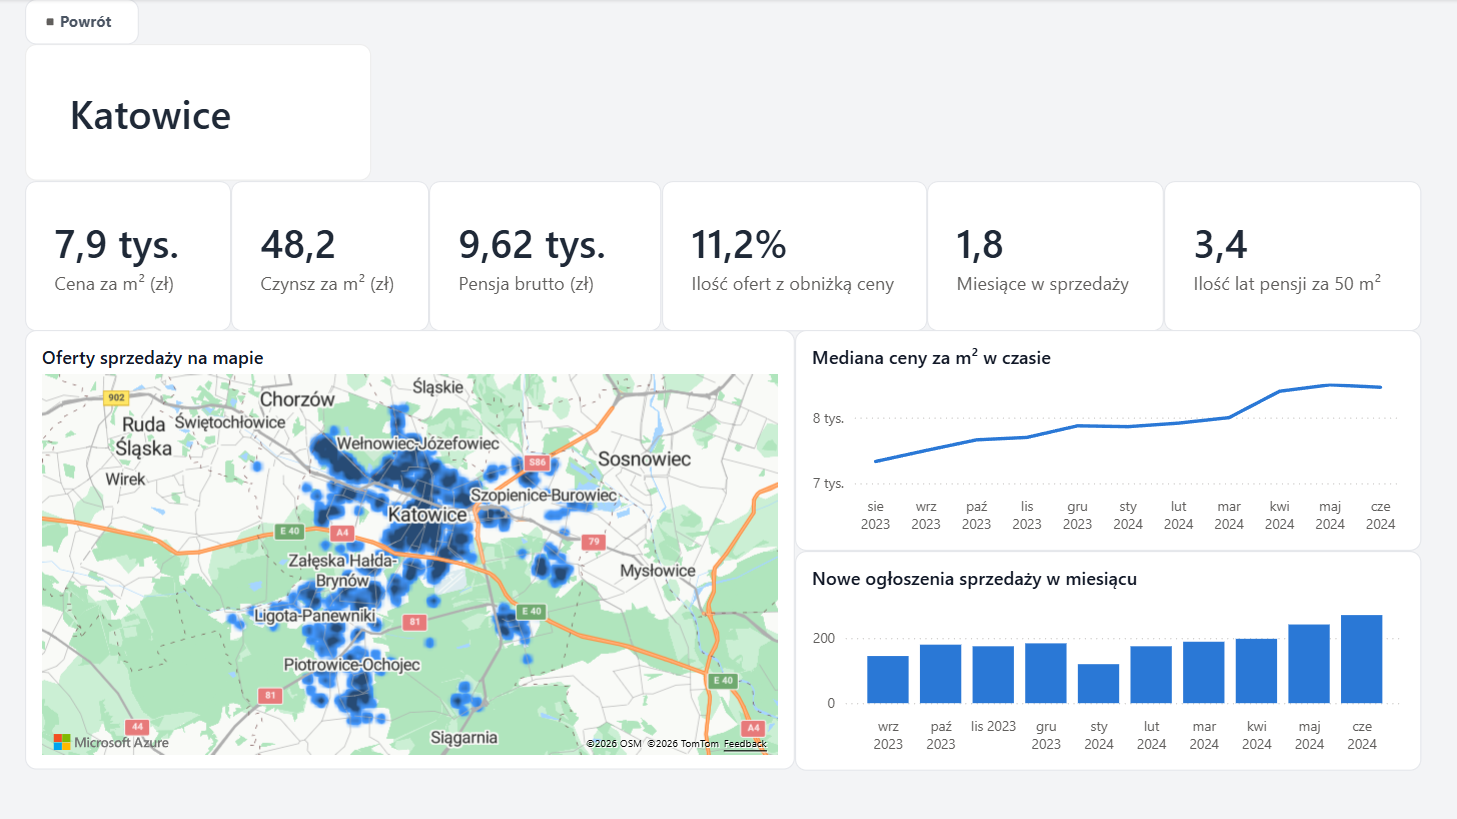

The dashboard page shown, as its layout file describes it:
{"tool":"powerbi","page":{"name":"Szczegóły miasta","canvas":[1280,720],"ordinal":4},"visuals":[{"type":"cardVisual","fields":{"Data":["Min(dim_city.city_name)"]},"box":[22.8,39.4,304.5,120.1],"z":0},{"type":"cardVisual","fields":{"Data":["_Measures.Median Price per m2"]},"box":[22.8,159.5,181.2,131.5],"z":1000},{"type":"cardVisual","fields":{"Data":["_Measures.Median Rent per m2"]},"box":[204,159.5,174,131.5],"z":2000},{"type":"cardVisual","fields":{"Data":["_Measures.Avg Gross Wage"]},"box":[378,159.5,204,131.5],"z":3000},{"type":"cardVisual","fields":{"Data":["_Measures.Years of Pay for 50 m2"]},"box":[1023.2,159.5,225.8,131.5],"z":4000},{"type":"cardVisual","fields":{"Data":["_Measures.Price Cut Share %"]},"box":[582,159.5,233,131.5],"z":5000},{"type":"cardVisual","fields":{"Data":["_Measures.Avg Months on Market"]},"box":[815,159.5,208.2,131.5],"z":6000},{"type":"azureMap","title":"Oferty sprzedaży na mapie","fields":{"Y":["dim_listing.latitude"],"X":["dim_listing.longitude"]},"box":[22.8,291,676.2,386.3],"z":7000},{"type":"lineChart","title":"Mediana ceny za m² w czasie","fields":{"Category":["dim_month.month_label"],"Y":["_Measures.Median Price per m2"]},"box":[699,291,549.9,193.7],"z":8000},{"type":"clusteredColumnChart","title":"Nowe ogłoszenia sprzedaży w miesiącu","fields":{"Y":["_Measures.New Listings"],"Category":["dim_month.month_label"]},"box":[699,484.7,549.9,192.6],"z":9000},{"type":"actionButton","box":[22.8,0,100.5,40.4],"z":10000},{"type":"textbox","box":[53.9,10.4,60.1,29],"z":11000}]}

Visuals, with their boxes in screenshot pixels (x1, y1, x2, y2), scaled from the page's 1280x720 canvas onto the 1457x819 screenshot:
cardVisual - Min(dim_city.city_name): BBox(26, 45, 373, 181)
cardVisual - _Measures.Median Price per m2: BBox(26, 181, 232, 331)
cardVisual - _Measures.Median Rent per m2: BBox(232, 181, 430, 331)
cardVisual - _Measures.Avg Gross Wage: BBox(430, 181, 662, 331)
cardVisual - _Measures.Years of Pay for 50 m2: BBox(1165, 181, 1422, 331)
cardVisual - _Measures.Price Cut Share %: BBox(662, 181, 928, 331)
cardVisual - _Measures.Avg Months on Market: BBox(928, 181, 1165, 331)
"Oferty sprzedaży na mapie" azureMap: BBox(26, 331, 796, 770)
"Mediana ceny za m² w czasie" lineChart: BBox(796, 331, 1422, 551)
"Nowe ogłoszenia sprzedaży w miesiącu" clusteredColumnChart: BBox(796, 551, 1422, 770)
actionButton: BBox(26, 0, 140, 46)
textbox: BBox(61, 12, 130, 45)
